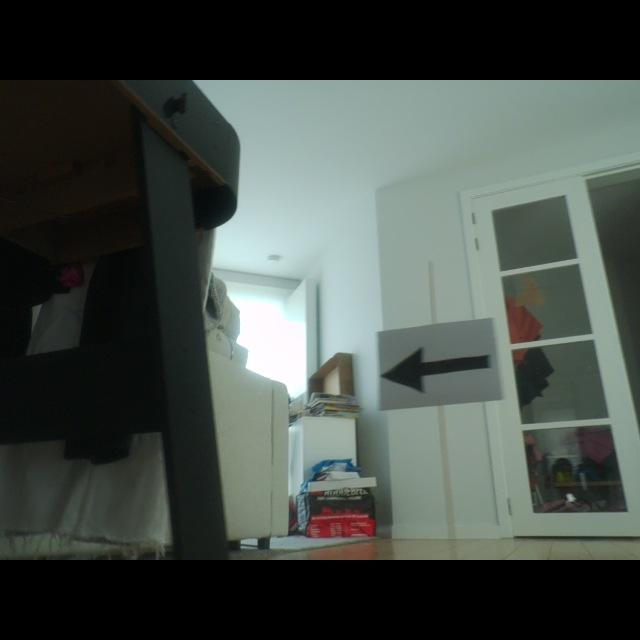balra_nyil: (382, 346, 488, 392)
